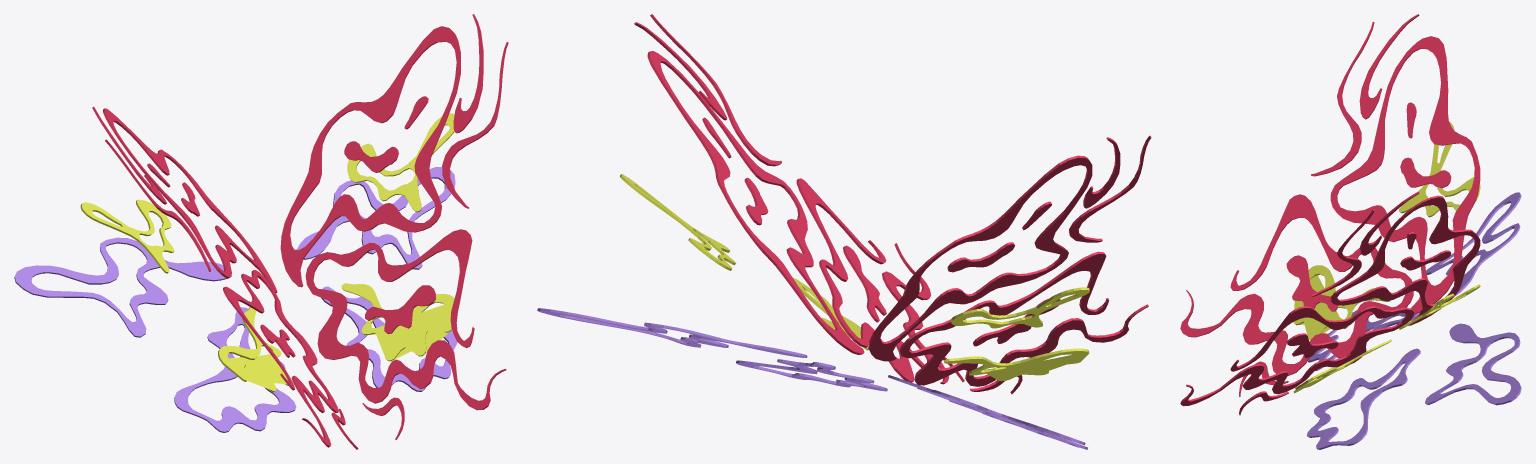
The picture shows the model from 3 angles, left to right: view 1: azimuth 30°, elevation 25°; view 2: azimuth 150°, elevation 25°; view 3: azimuth 270°, elevation 25°; orthographic projection. The views are drawn at different scales.
Parts seen in each view (by area): view 1: 4, 6, 3, 7, 8, 5, 2, 1; view 2: 3, 5, 6, 4, 8, 1, 2, 7; view 3: 3, 5, 4, 8, 6, 1, 7, 2.
Part boxes in pixels (left/top/right/bottom): 4: left=317, top=242, right=506, bottom=439; 6: left=286, top=14, right=483, bottom=231; 3: left=174, top=273, right=358, bottom=449; 7: left=14, top=231, right=282, bottom=358; 8: left=280, top=167, right=455, bottom=328; 5: left=80, top=106, right=239, bottom=273; 2: left=380, top=42, right=508, bottom=266; 1: left=105, top=139, right=246, bottom=319; 3: left=914, top=271, right=1148, bottom=449; 5: left=875, top=137, right=1120, bottom=330; 6: left=620, top=22, right=817, bottom=314; 4: left=736, top=204, right=964, bottom=391; 8: left=537, top=269, right=870, bottom=373; 1: left=994, top=135, right=1151, bottom=289; 2: left=650, top=14, right=825, bottom=242; 7: left=868, top=306, right=1085, bottom=445; 3: left=1180, top=224, right=1376, bottom=396; 5: left=1376, top=14, right=1480, bottom=263; 4: left=1180, top=306, right=1376, bottom=449; 8: left=1376, top=287, right=1521, bottom=405; 6: left=1376, top=191, right=1480, bottom=329; 1: left=1279, top=22, right=1376, bottom=233; 7: left=1376, top=192, right=1521, bottom=329; 2: left=1279, top=209, right=1376, bottom=327.
Bounding box in the file's own units: 170 × 117 × 120.
